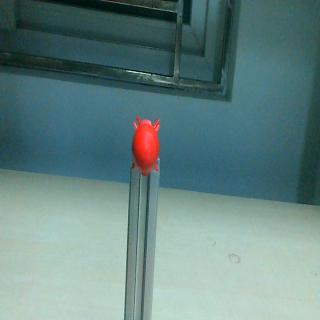Rocket: (130, 112, 161, 178)
